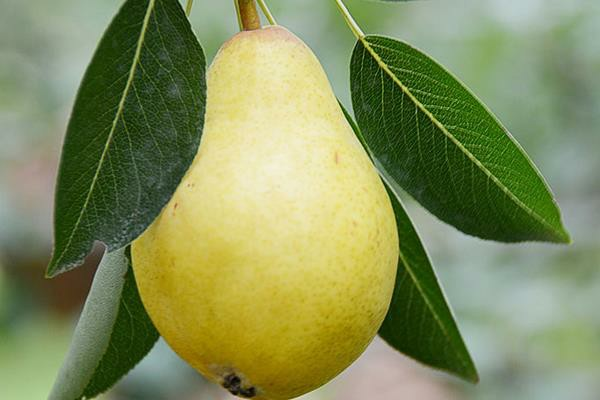pear: (130, 23, 398, 400)
